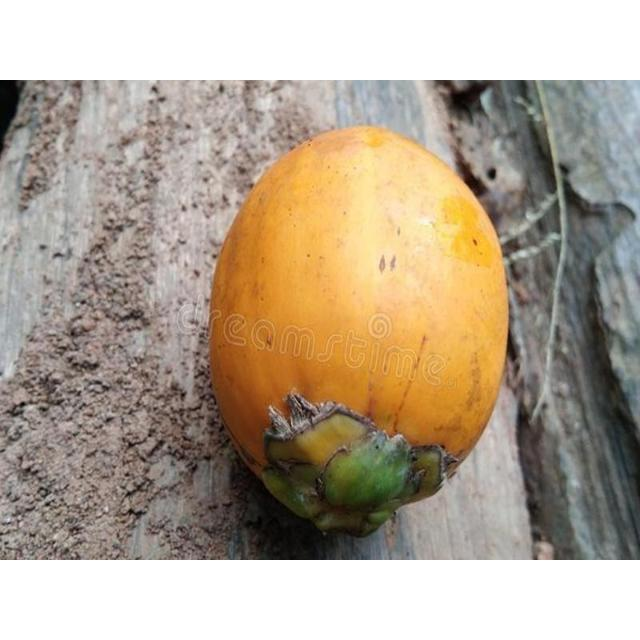good: (207, 126, 510, 539)
